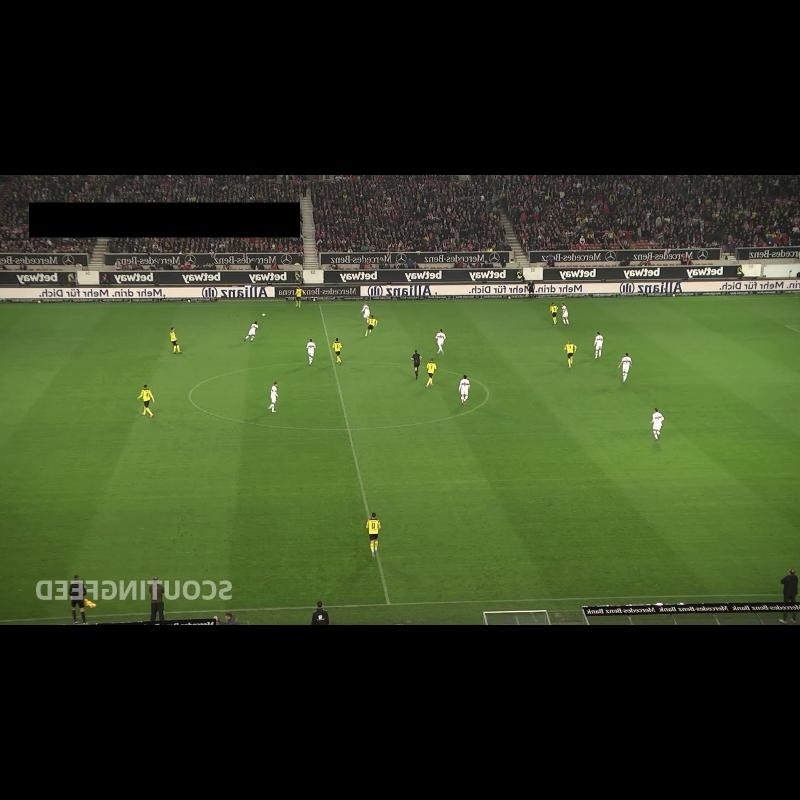cross_recipient_zone: (788, 325, 800, 332)
crossing_player_zone: (629, 296, 800, 328)
pitch: (0, 297, 800, 622)
